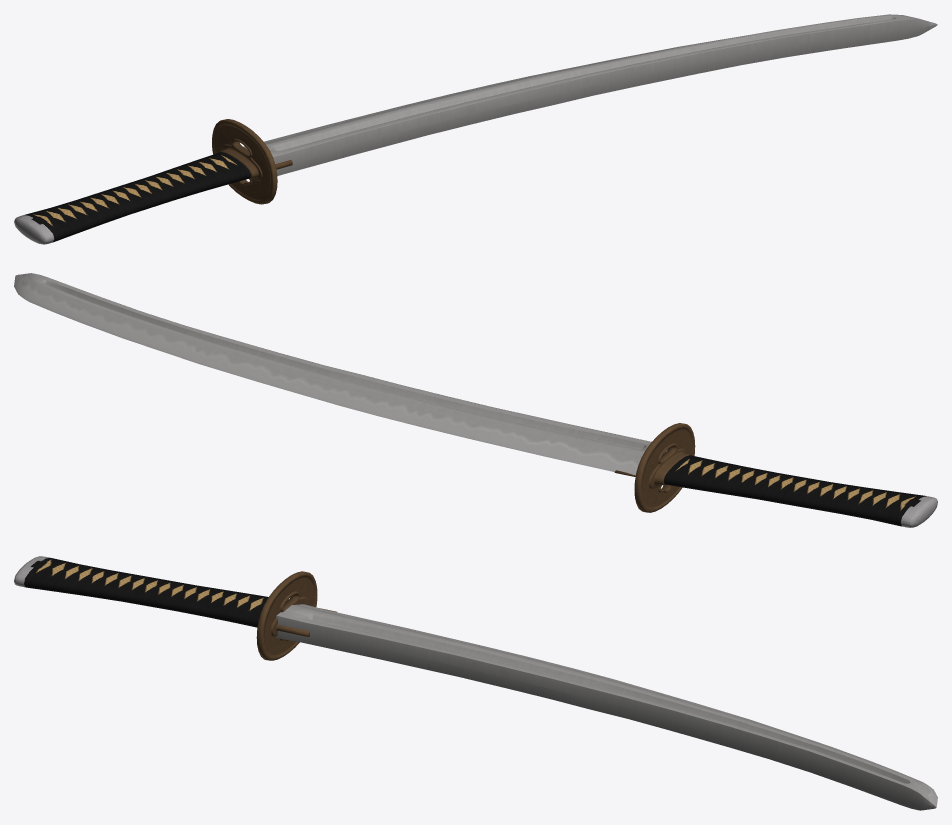
Rendered from katana3.obj.
3 renders of one model, top to bottom at view 1: azimuth 30°, elevation 25°; view 2: azimuth 150°, elevation 25°; view 3: azimuth 330°, elevation 25°, orthographic. The views are drawn at different scales.
Parts seen in each view (by area): view 1: Mesh_ZBrush_defualt_group.001, Mesh_ZBrush_defualt_group; view 2: Mesh_ZBrush_defualt_group.001, Mesh_ZBrush_defualt_group; view 3: Mesh_ZBrush_defualt_group.001, Mesh_ZBrush_defualt_group.
Part boxes in pixels (x1,y1,x2,y2): Mesh_ZBrush_defualt_group.001: (243,14,937,175); Mesh_ZBrush_defualt_group: (14,119,292,244); Mesh_ZBrush_defualt_group.001: (14,273,667,475); Mesh_ZBrush_defualt_group: (614,423,937,527); Mesh_ZBrush_defualt_group.001: (276,604,937,810); Mesh_ZBrush_defualt_group: (14,556,336,660).
Size of the model in its own units: 5.15 by 0.3859 by 0.6187.
